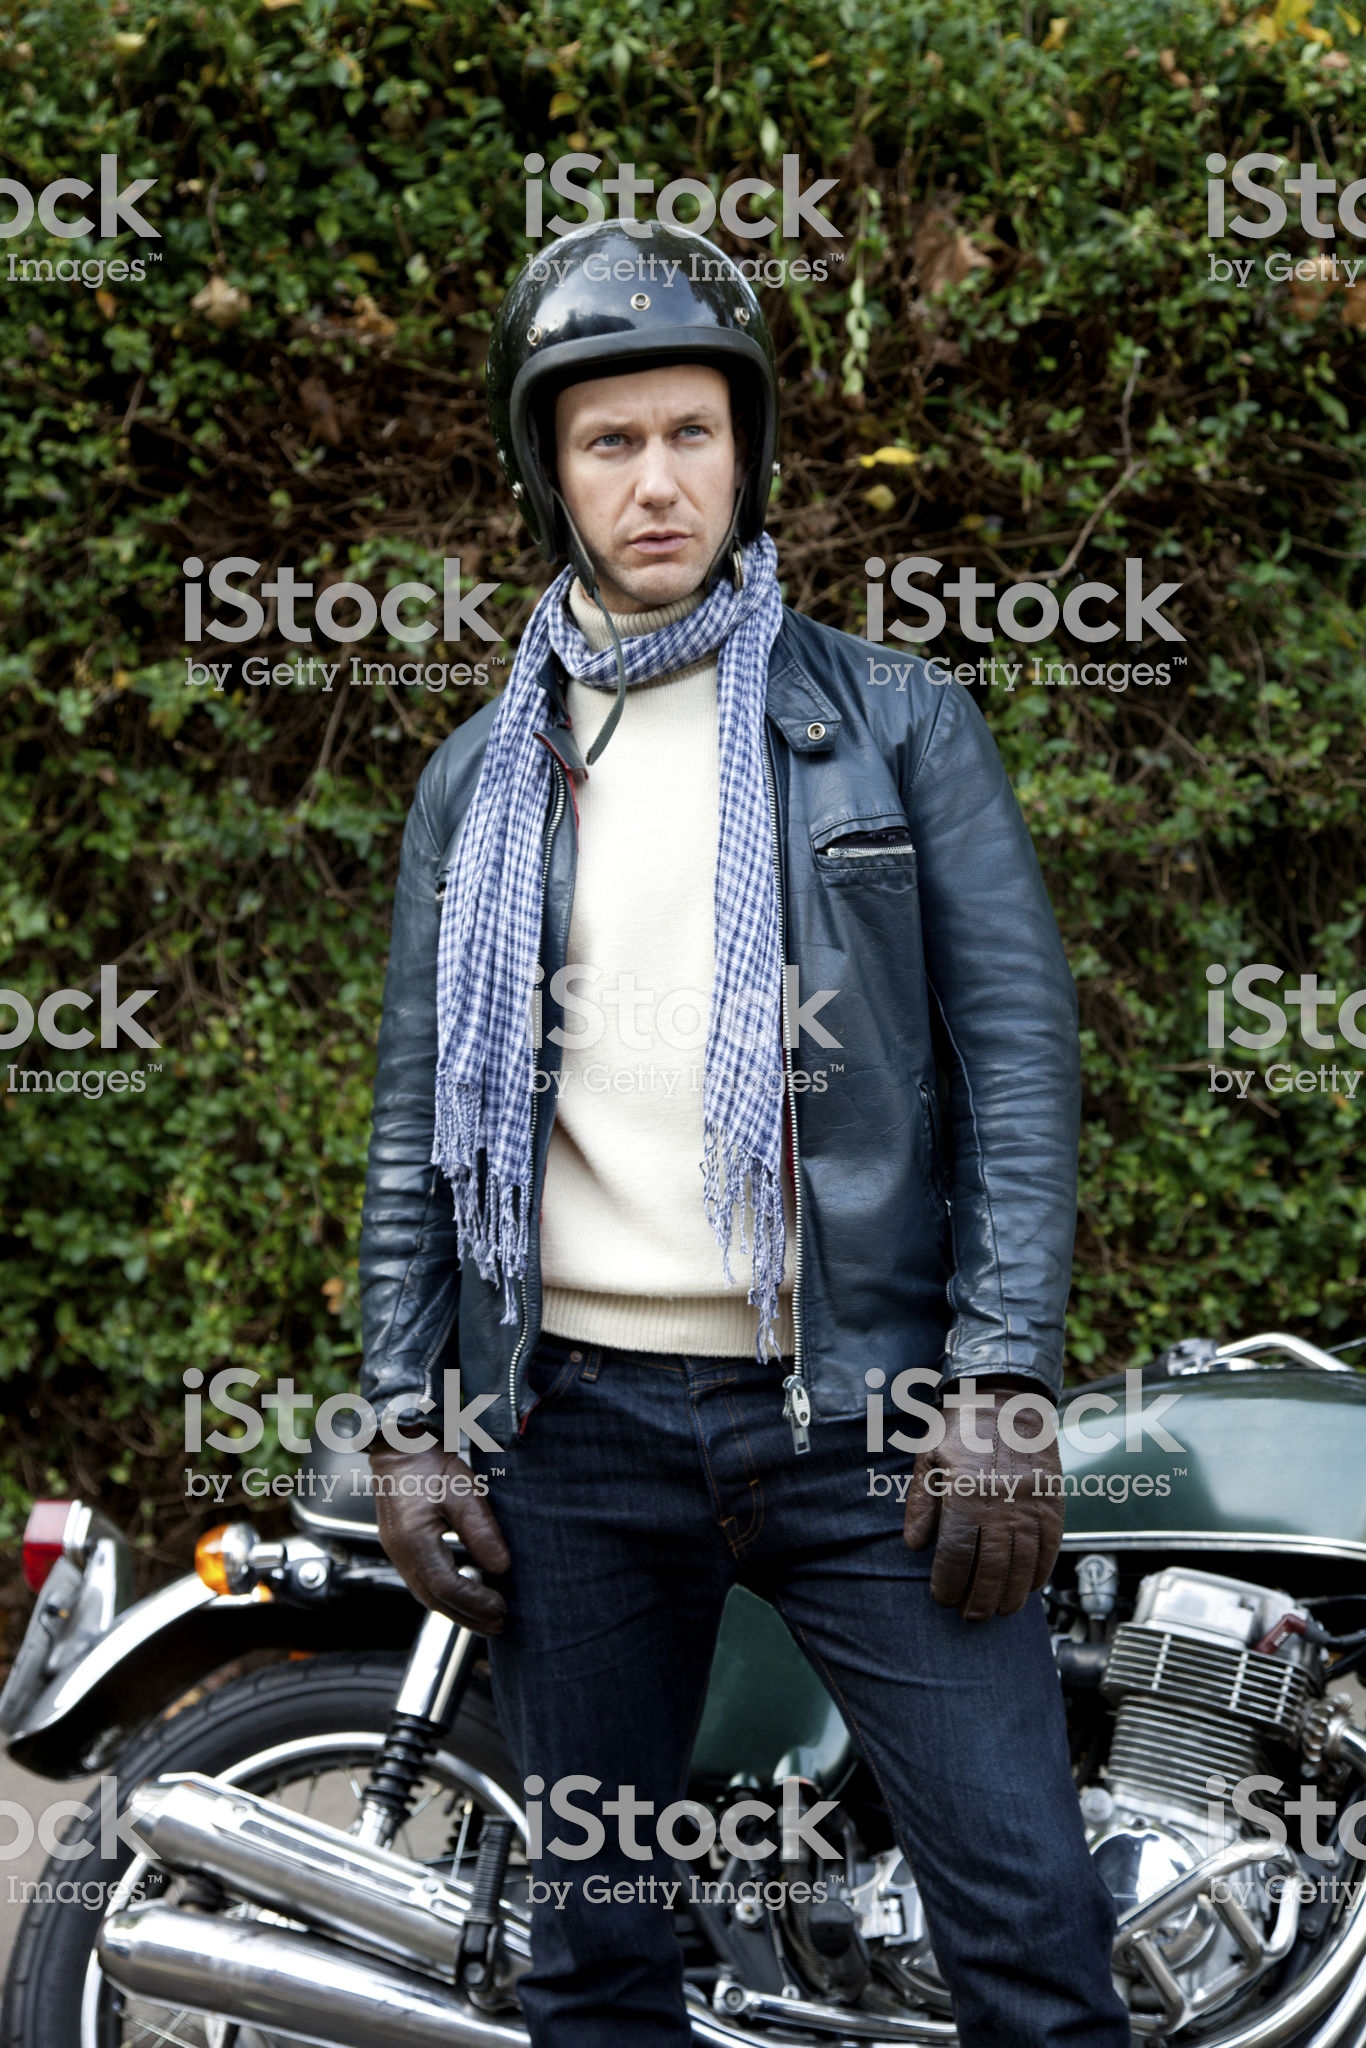helmet: (482, 206, 782, 413)
